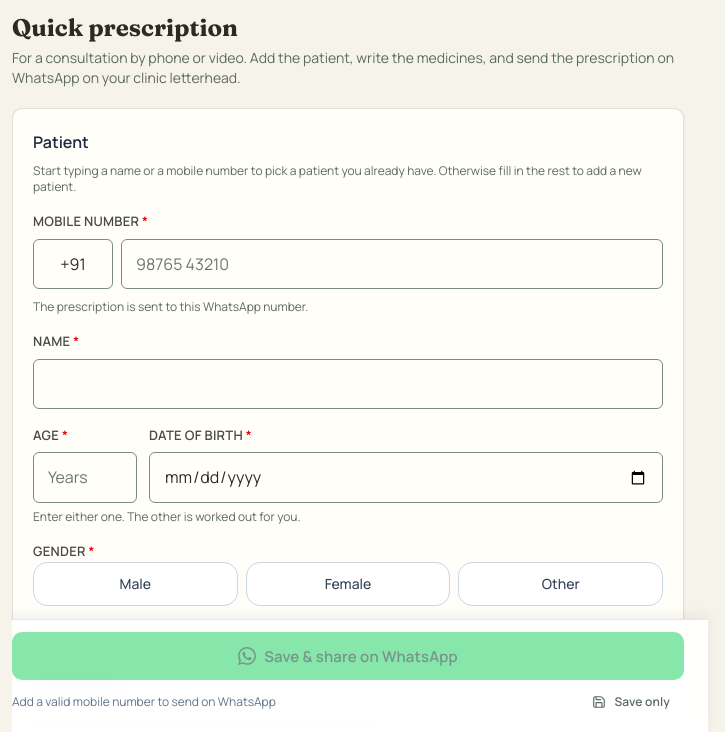
Scenario: the patient section › uses another country code when it is changed, and splits a pasted international number
The width and height of the screenshot is (725, 732).
Replace the text in the field named "Country code" with "+44" at (73, 264), box x1=33 y1=239 x2=113 y2=289
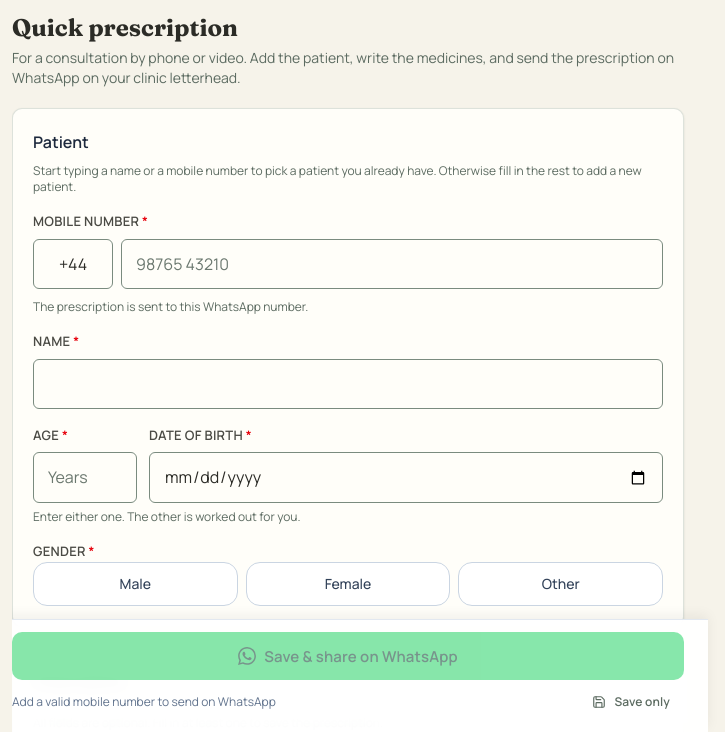
Type "7700900123" into the dropdown labelled "Mobile number *".
click(392, 264); type("7700900123")  # box x1=121 y1=239 x2=663 y2=289
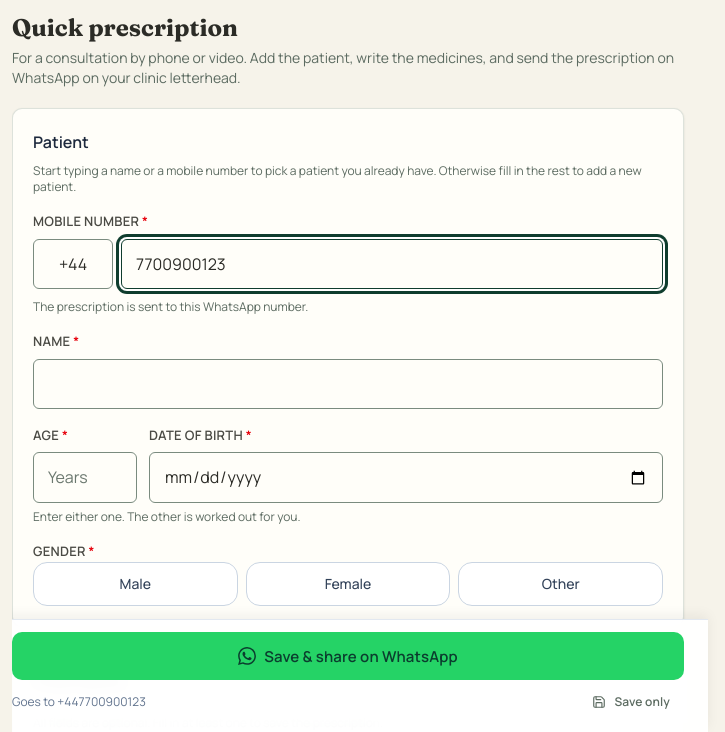
Check: the text "Goes to +447700900123" is shown, box x1=12 y1=694 x2=146 y2=710
Replace the text in the dropdown labelled "Mobile number *" with "+971501234567" at (392, 264), box x1=121 y1=239 x2=663 y2=289
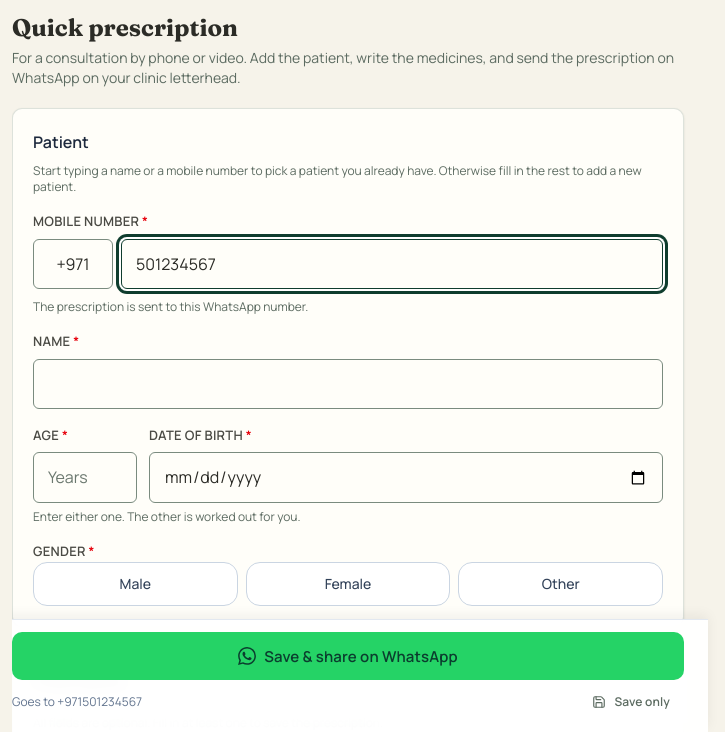
Check: the field named "Country code" holds "+971", box x1=33 y1=239 x2=113 y2=289
Check: the dropdown labelled "Mobile number *" holds "501234567", box x1=121 y1=239 x2=663 y2=289
Check: the text "Goes to +971501234567" is shown, box x1=12 y1=694 x2=142 y2=710
